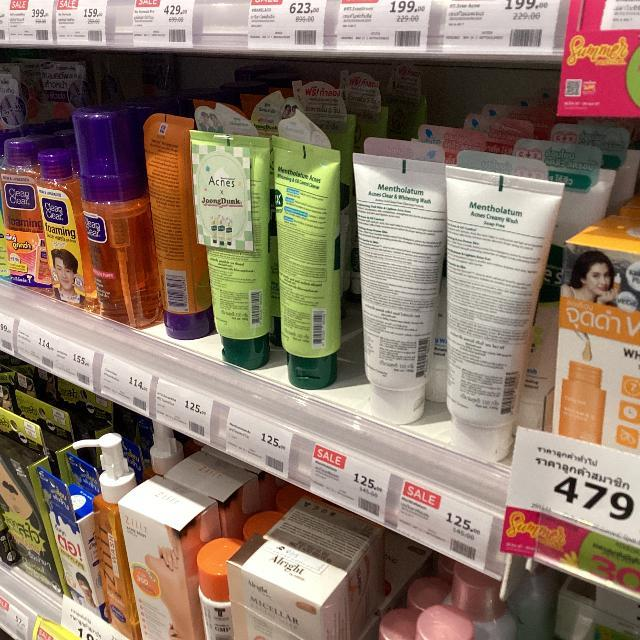Squeeze Tube: (139, 93, 596, 489)
